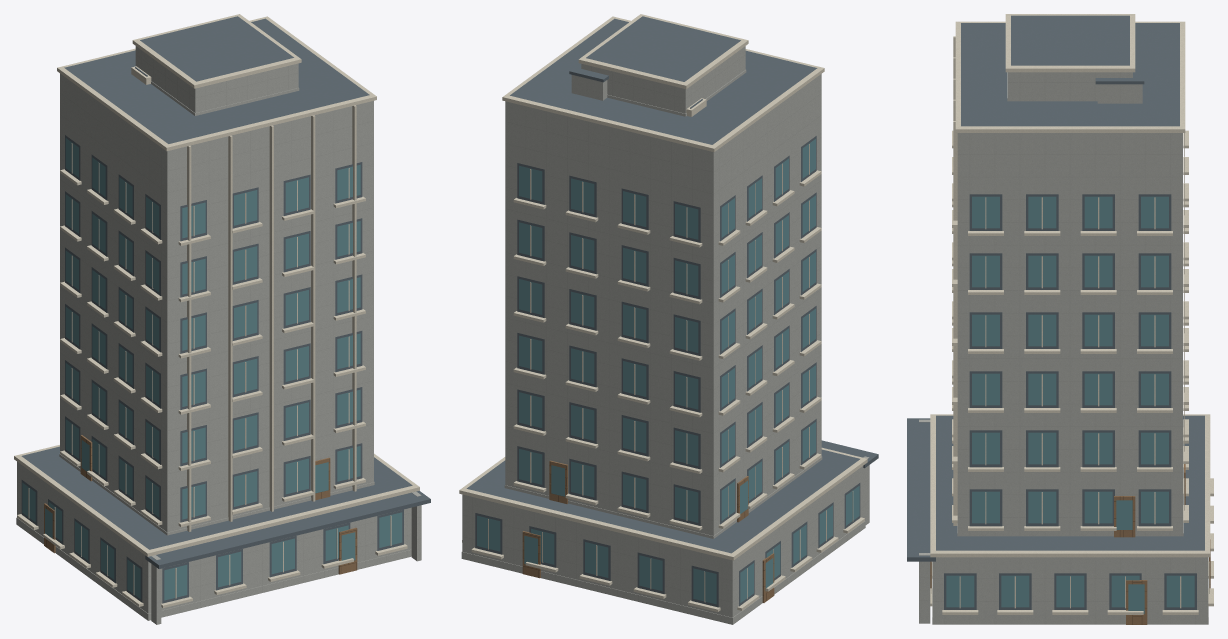
The model's file is q03-office.glb.
3 views of the same model, side by side, from view 1: azimuth 30°, elevation 25°; view 2: azimuth 150°, elevation 25°; view 3: azimuth 270°, elevation 25° (orthographic). The views are drawn at different scales.
Size of the model in its own units: 13.46 by 22.69 by 12.26.
5 materials, 4 textured.
